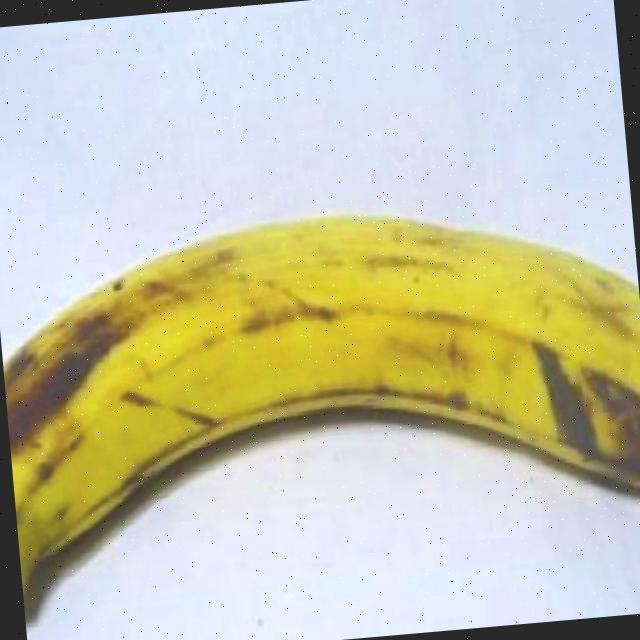Overripe: (0, 150, 640, 630)
